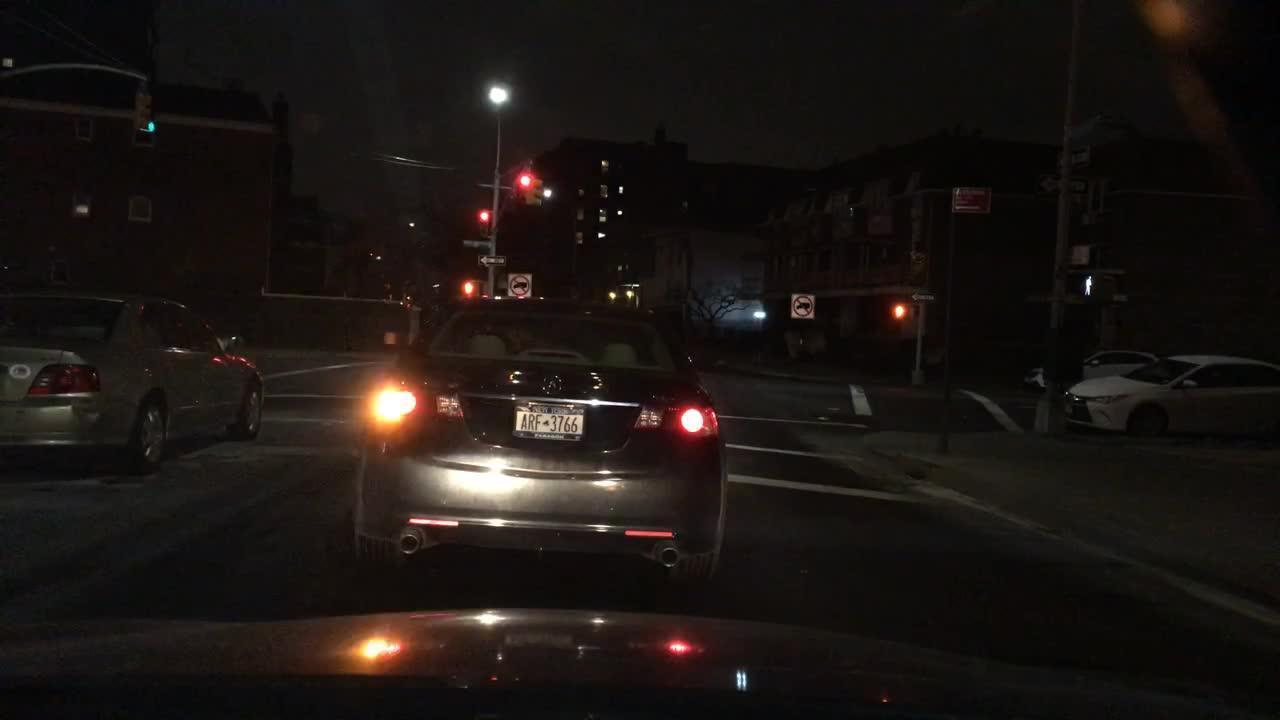acura: (533, 370, 567, 400)
